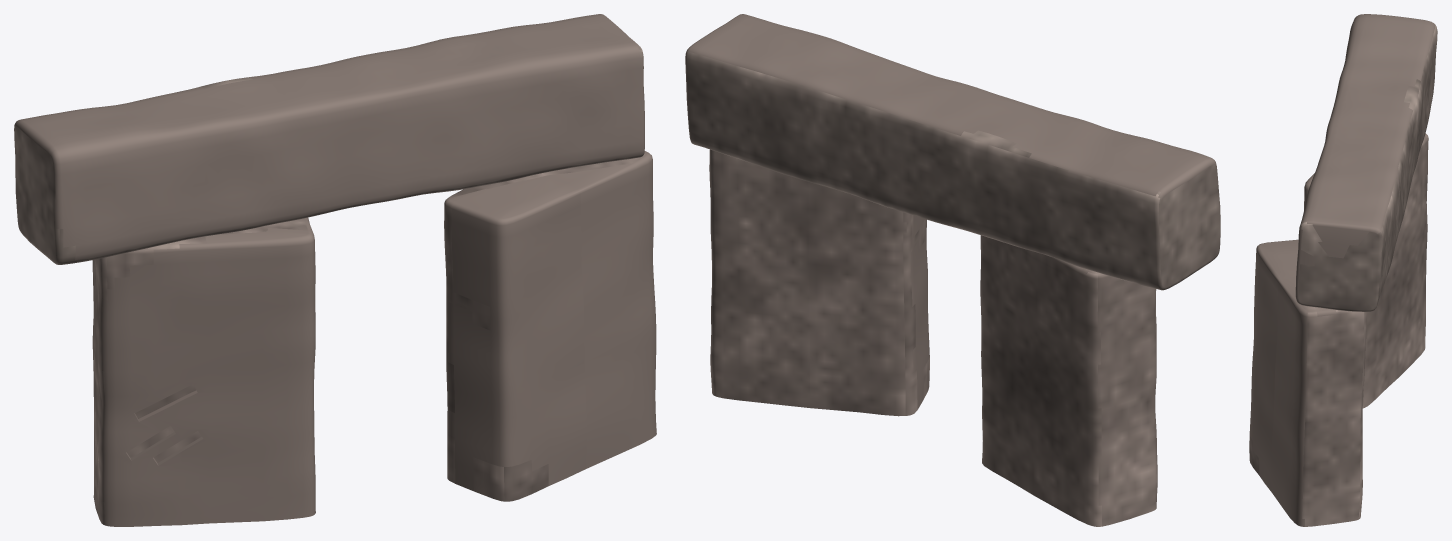
File: VerHenge09.glb
3 renders of one model, left to right at view 1: azimuth 30°, elevation 25°; view 2: azimuth 150°, elevation 25°; view 3: azimuth 270°, elevation 25°, orthographic. The views are drawn at different scales.
Parts seen in each view (by area): view 1: VerHenge09; view 2: VerHenge09; view 3: VerHenge09.
Boxes of the visible parts, x1=… form: VerHenge09: x1=14, y1=14, x2=656, y2=526; VerHenge09: x1=685, y1=14, x2=1220, y2=526; VerHenge09: x1=1249, y1=14, x2=1437, y2=526.
Bounding box in the file's own units: 4.95 × 3.27 × 1.84.
2 materials, 1 textured.
